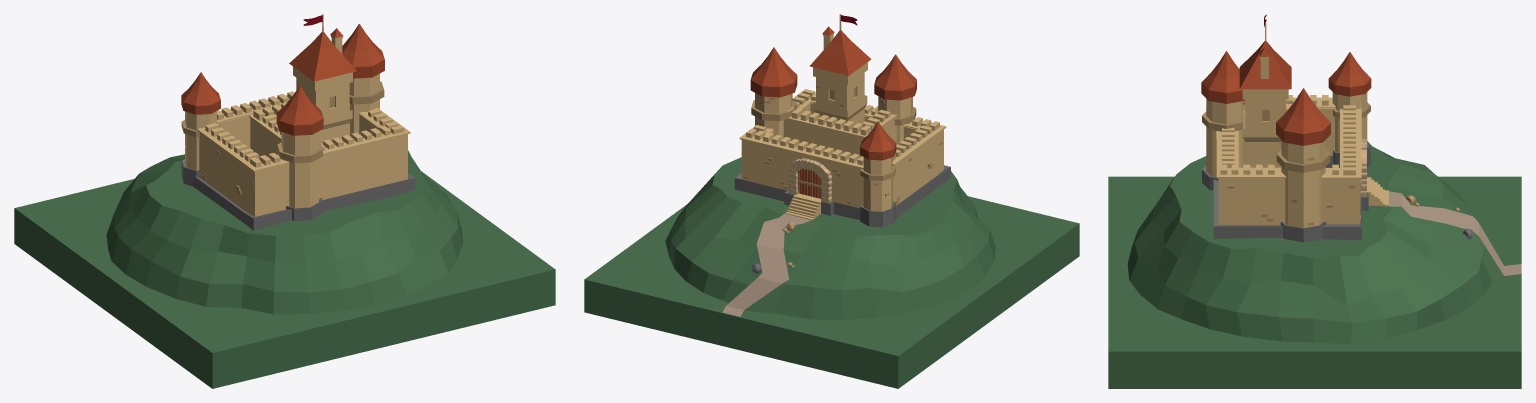
Rendered from Castle.glb.
3 views of the same model, side by side, from view 1: azimuth 30°, elevation 25°; view 2: azimuth 150°, elevation 25°; view 3: azimuth 270°, elevation 25° (orthographic). The views are drawn at different scales.
Parts seen in each view (by area): view 1: Cube, hill, walls, borders, divots, maintower, Cylinder.001, Cube.006, Cylinder.007, Cylinder.006, Cylinder.005, Cylinder.002 (+1 smaller); view 2: Cube, hill, walls, divots, path, borders, maintower, Cylinder.006, Cube.006, Cylinder, Cylinder.007, Cube.047 (+5 smaller); view 3: hill, Cube, walls, borders, maintower, Cylinder.002, divots, Cylinder.006, path, Cube.006, Cylinder.001, Cylinder.007 (+4 smaller).
Boxes of the visible parts, x1,y1,x2,y2 form: Cube: (14,171,555,388); hill: (106,150,463,314); walls: (197,95,410,216); borders: (181,159,415,230); divots: (205,91,404,167); maintower: (293,14,352,143); Cylinder.001: (281,131,318,208); Cube.006: (289,31,356,81); Cylinder.007: (276,85,323,135); Cylinder.006: (342,24,384,78); Cylinder.005: (181,72,220,114); Cylinder.002: (349,73,379,136); Cube: (584,196,1079,388); hill: (665,157,995,319); walls: (739,91,946,208); divots: (746,89,939,165); path: (722,213,814,316); borders: (734,165,950,227); maintower: (813,14,867,125); Cylinder.006: (750,47,797,97); Cube.006: (809,30,871,75); Cylinder: (863,157,892,211); Cylinder.007: (874,54,916,100); Cube.047: (788,158,832,203); hill: (1127,141,1500,343); Cube: (1108,176,1521,388); walls: (1216,97,1366,225); borders: (1202,143,1370,242); maintower: (1242,22,1288,167); Cylinder.002: (1281,140,1325,228); divots: (1220,95,1355,175); Cylinder.006: (1276,88,1330,145); path: (1384,191,1521,275); Cube.006: (1239,41,1291,89); Cylinder.001: (1206,99,1245,177); Cylinder.007: (1201,51,1244,103).
Size of the model in its own units: 10 by 7.64 by 10.
